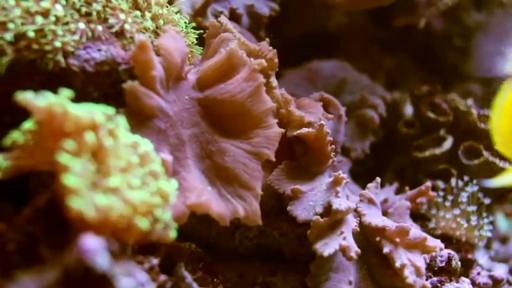Fish: (488, 79, 511, 159)
